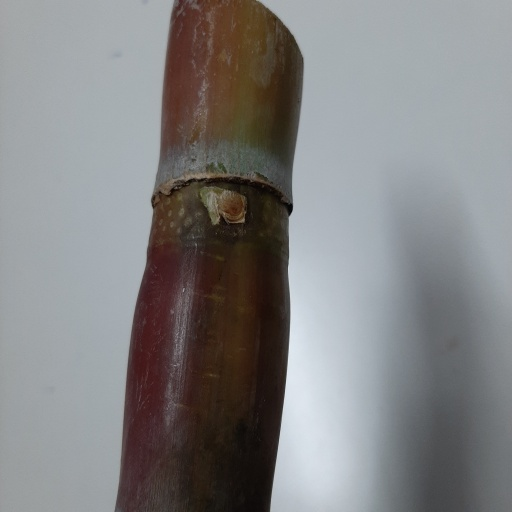Damage_Bud: (220, 190, 246, 223)
